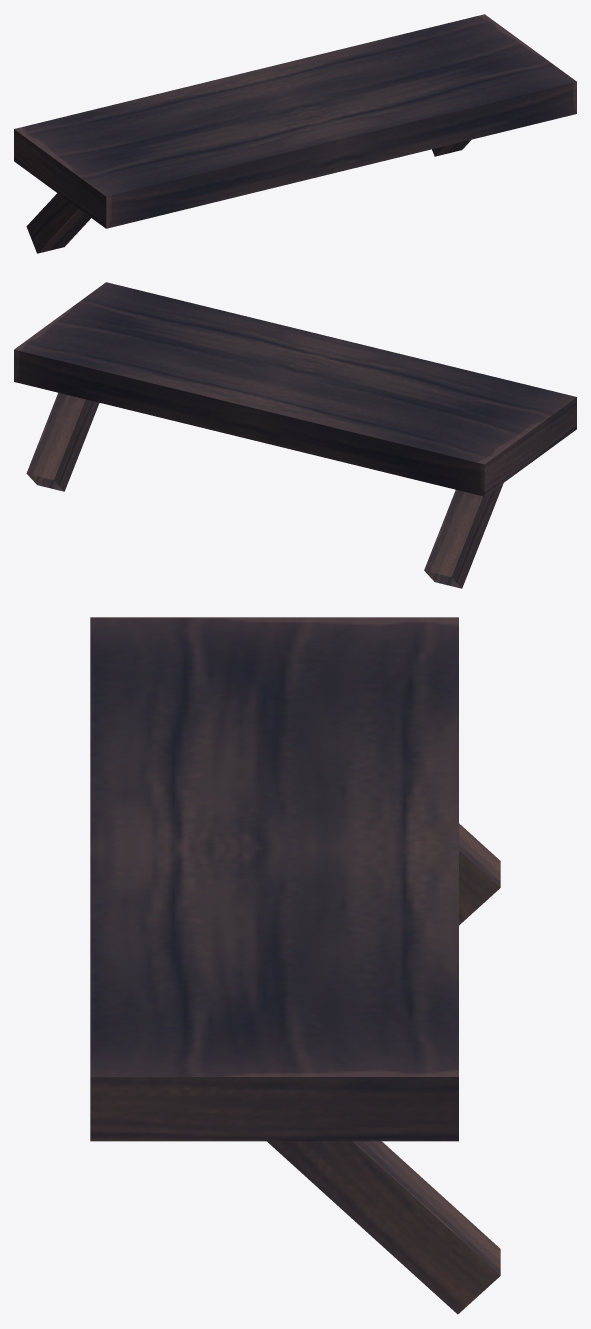
The model's file is Shelf_E.fbx.
3 views of the same model, one above another, from view 1: azimuth 30°, elevation 25°; view 2: azimuth 150°, elevation 25°; view 3: azimuth 270°, elevation 25° (orthographic). The views are drawn at different scales.
Visible parts, largest first — view 1: Shelf_E; view 2: Shelf_E; view 3: Shelf_E.
Part boxes in pixels (x1,y1,x2,y2): Shelf_E: [14, 14, 576, 253]; Shelf_E: [14, 282, 576, 588]; Shelf_E: [90, 617, 500, 1314].
Bounding box in the file's own units: 0.3133 × 0.0827 × 0.1183.
